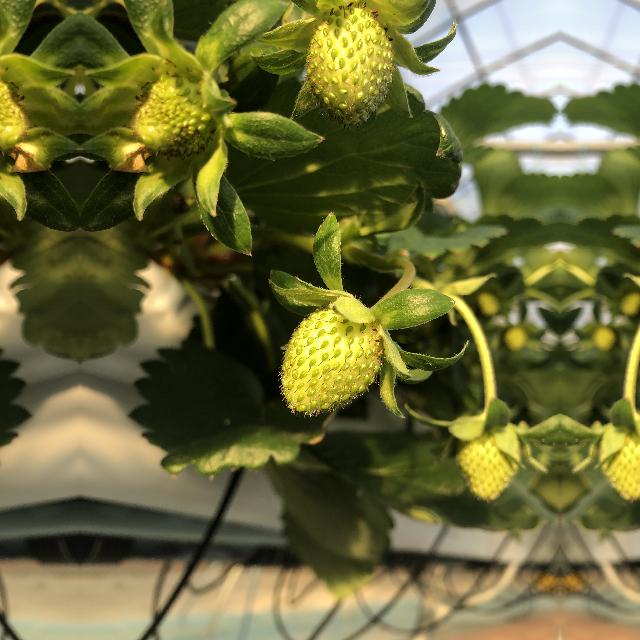Health_25: (272, 291, 394, 423), (308, 8, 394, 126), (132, 72, 218, 166), (0, 72, 28, 166)
